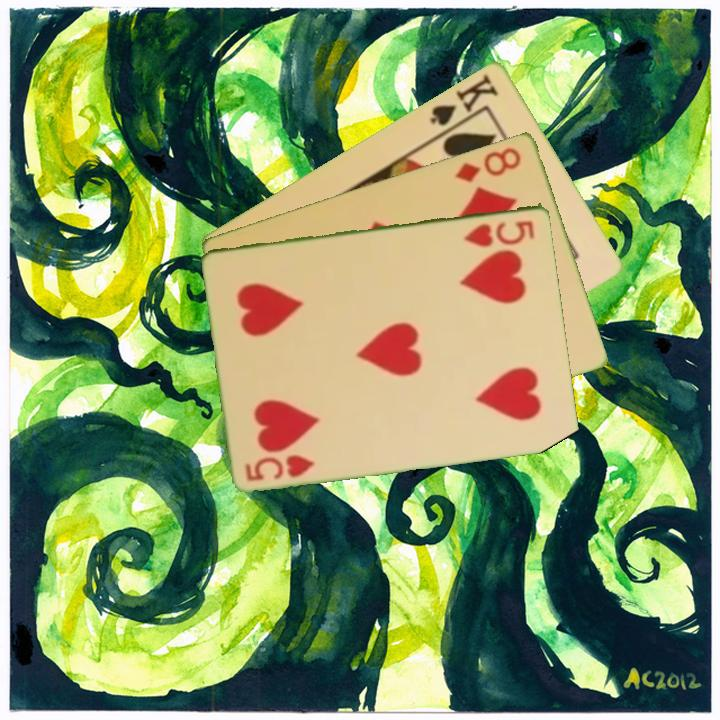5h: (242, 450, 318, 484), (461, 216, 538, 249)
8d: (452, 143, 525, 185)
Ks: (426, 70, 502, 137)
